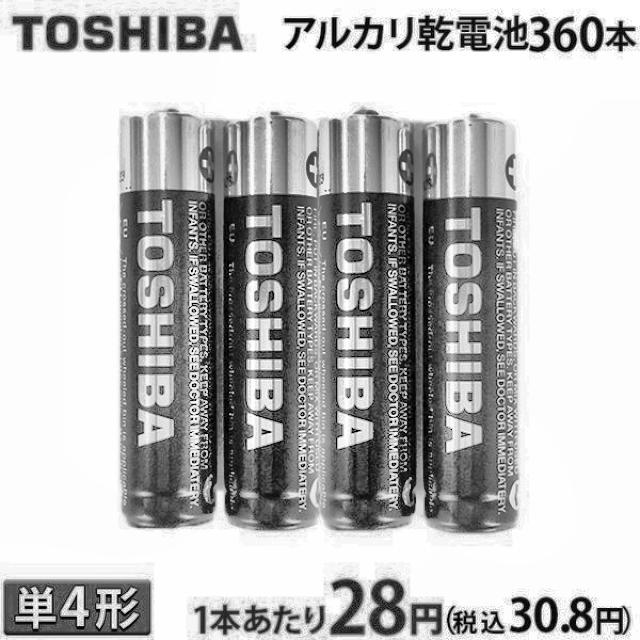drycell: (115, 104, 218, 535), (220, 108, 322, 539)
